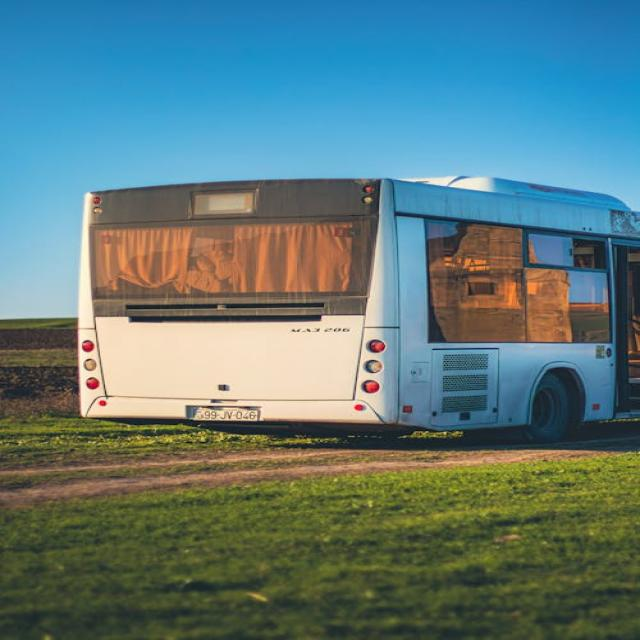bus: (76, 175, 638, 443)
